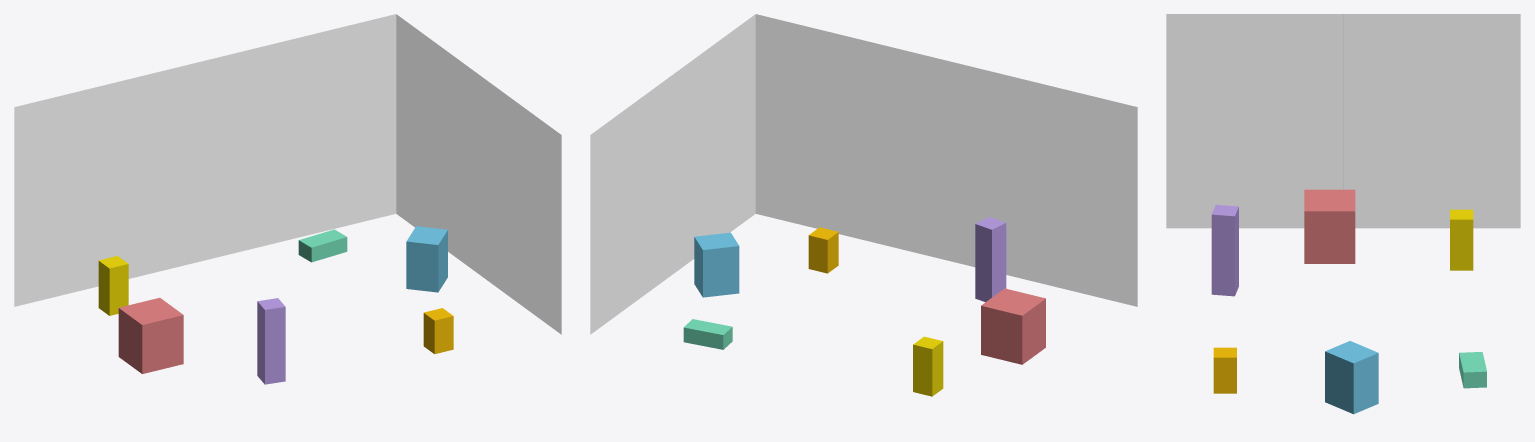
The model's file is VRGameScene.glb.
3 renders of one model, left to right at view 1: azimuth 30°, elevation 25°; view 2: azimuth 150°, elevation 25°; view 3: azimuth 270°, elevation 25°, orthographic. The views are drawn at different scales.
Parts seen in each view (by area): view 1: Wall (3), Wall (4), Cube (4), Cube (1), Cube (5), Cube (3), Cube (6), Cube (2); view 2: Wall (1), Wall (4), Cube (4), Cube (1), Cube (5), Cube (3), Cube (6), Cube (2); view 3: Wall (2), Cube (4), Cube (1), Cube (5), Cube (3), Cube (6), Cube (2).
Part boxes in pixels (left/top/right/bottom): Wall (3): left=14, top=14, right=396, bottom=306; Wall (4): left=396, top=14, right=561, bottom=334; Cube (4): left=118, top=297, right=183, bottom=373; Cube (1): left=406, top=226, right=447, bottom=292; Cube (5): left=257, top=298, right=285, bottom=384; Cube (3): left=98, top=256, right=128, bottom=315; Cube (6): left=423, top=308, right=453, bottom=354; Cube (2): left=298, top=229, right=347, bottom=262; Wall (1): left=755, top=14, right=1137, bottom=306; Wall (4): left=590, top=14, right=755, bottom=334; Cube (4): left=981, top=288, right=1045, bottom=364; Cube (1): left=694, top=232, right=739, bottom=297; Cube (5): left=975, top=217, right=1006, bottom=302; Cube (3): left=913, top=336, right=943, bottom=396; Cube (6): left=808, top=227, right=838, bottom=273; Cube (2): left=683, top=319, right=732, bottom=349; Wall (2): left=1166, top=14, right=1520, bottom=228; Cube (4): left=1304, top=189, right=1355, bottom=263; Cube (1): left=1325, top=341, right=1378, bottom=414; Cube (5): left=1211, top=204, right=1238, bottom=296; Cube (3): left=1450, top=209, right=1473, bottom=270; Cube (6): left=1213, top=347, right=1236, bottom=393; Cube (2): left=1459, top=352, right=1486, bottom=388.
Size of what is drawn, in the model's own units: 4 by 2.1 by 3.
